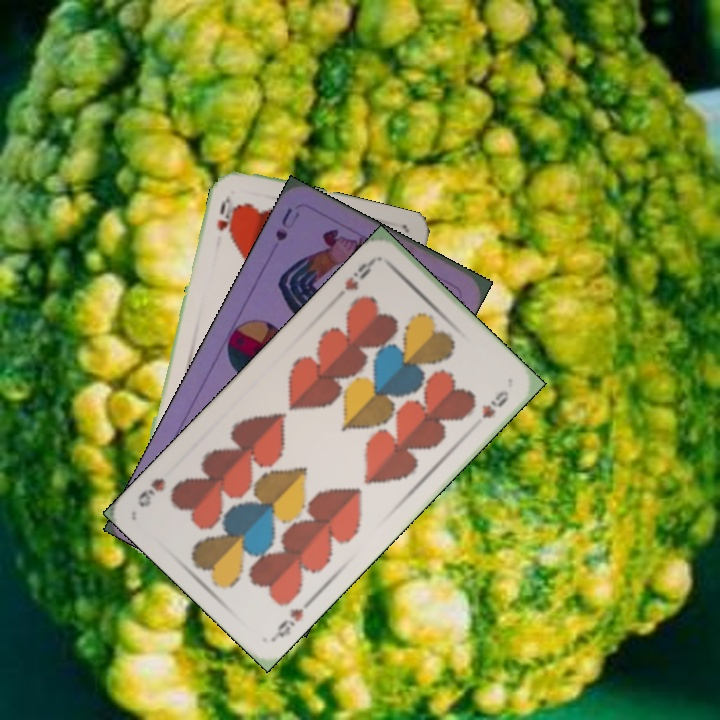H9: (340, 254, 379, 293), (269, 604, 307, 643)
HO: (213, 193, 241, 242)
SU: (271, 203, 303, 244)
